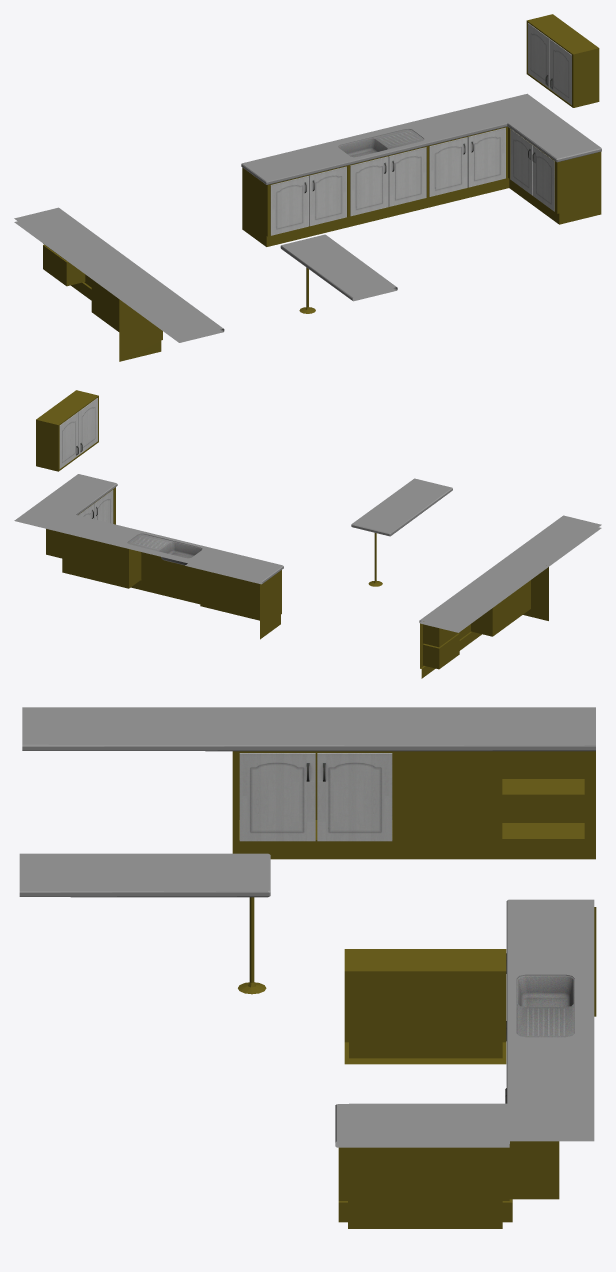
File: House_Amy_Bob_Kitchen.FBX
The picture shows the model from 3 angles, top to bottom: view 1: azimuth 30°, elevation 25°; view 2: azimuth 150°, elevation 25°; view 3: azimuth 270°, elevation 25°; orthographic projection. The views are drawn at different scales.
Visible parts, largest first — view 1: House_AmyBob_Kitchen Models; view 2: House_AmyBob_Kitchen Models; view 3: House_AmyBob_Kitchen Models.
Boxes of the visible parts, bbox=[...] form: House_AmyBob_Kitchen Models: bbox=[14, 14, 601, 361]; House_AmyBob_Kitchen Models: bbox=[14, 390, 601, 678]; House_AmyBob_Kitchen Models: bbox=[19, 707, 596, 1228].
Size of the model in its own units: 716 by 220 by 402.
